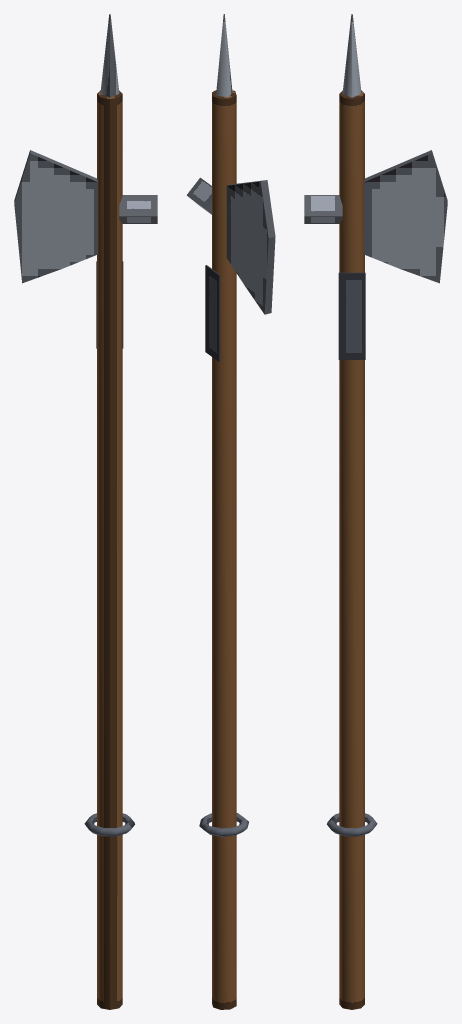
The model's file is poleaxe.glb.
3 views of the same model, side by side, from view 1: azimuth 90°, elevation 25°; view 2: azimuth 210°, elevation 25°; view 3: azimuth 270°, elevation 25° (orthographic).
Parts seen in each view (by area): view 1: poleaxe; view 2: poleaxe; view 3: poleaxe.
Part boxes in pixels (x1,y1,x2,y2): poleaxe: (14, 14, 157, 1009); poleaxe: (186, 14, 275, 1009); poleaxe: (304, 14, 447, 1009).
Bounding box in the file's own units: 0.0609 × 1.37 × 0.18.
1 material, 1 textured.
